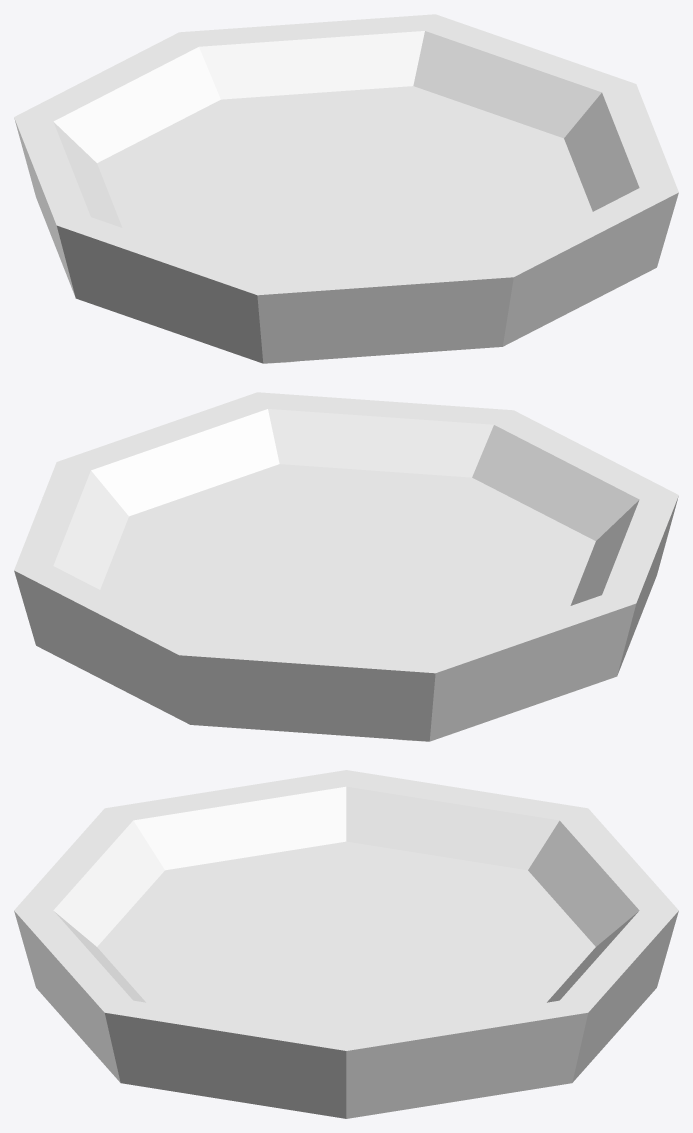
Rendered from KandangAyam_Jerami.fbx.
3 renders of one model, top to bottom at view 1: azimuth 30°, elevation 25°; view 2: azimuth 150°, elevation 25°; view 3: azimuth 270°, elevation 25°, orthographic.
Visible parts, largest first — view 1: KandangAyam-Jerami_LOD0; view 2: KandangAyam-Jerami_LOD0; view 3: KandangAyam-Jerami_LOD0.
Boxes of the visible parts, x1,y1,x2,y2 form: KandangAyam-Jerami_LOD0: (14,14,678,363); KandangAyam-Jerami_LOD0: (14,392,678,741); KandangAyam-Jerami_LOD0: (14,770,678,1118).
Size of what is drawn, in the model's own units: 85.41 by 18.52 by 85.41.
